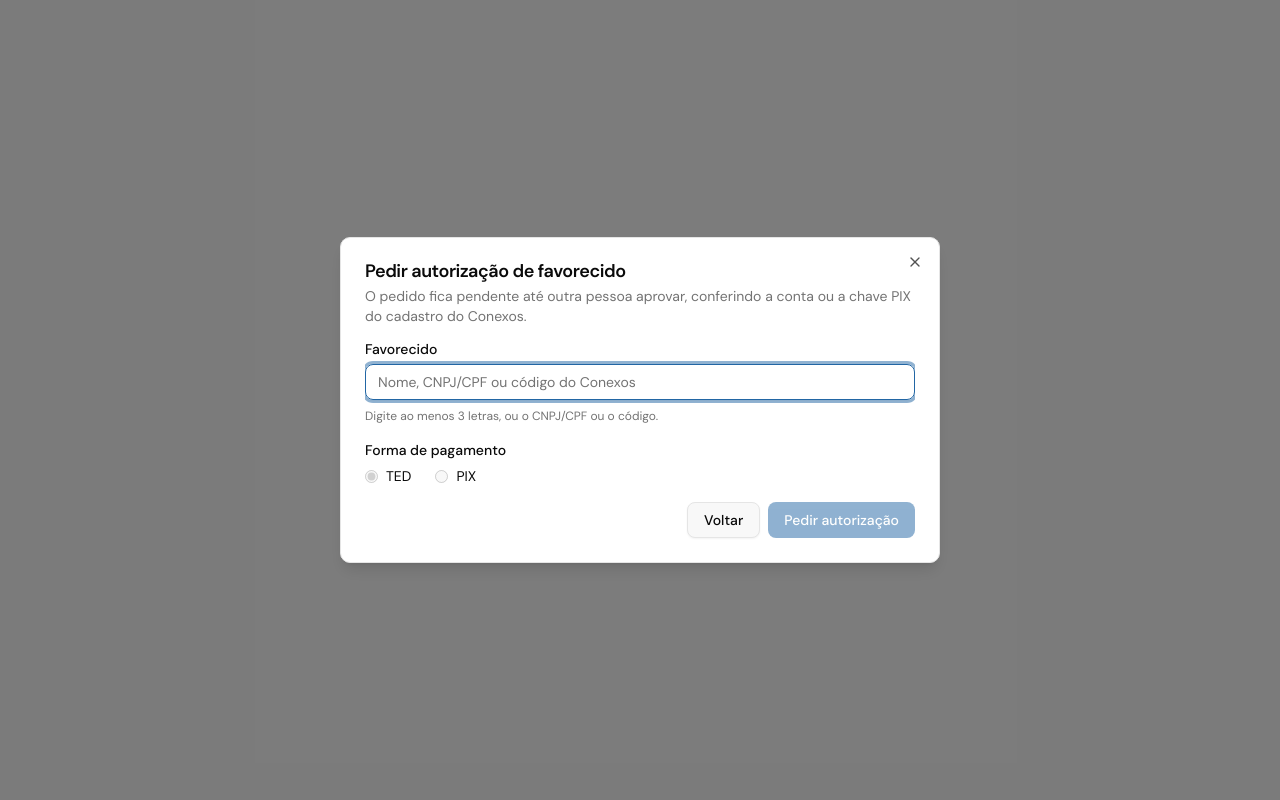
Test: SolicitarAutorizacaoDialog — busca no Conexos › cadastro sem destino para a modalidade: avisa e não deixa pedir
This screenshot has width=1280, height=800.
Type "beta" into the search field labelled "Favorecido" at (640, 382), box top-left (365, 364), bottom-right (915, 400)
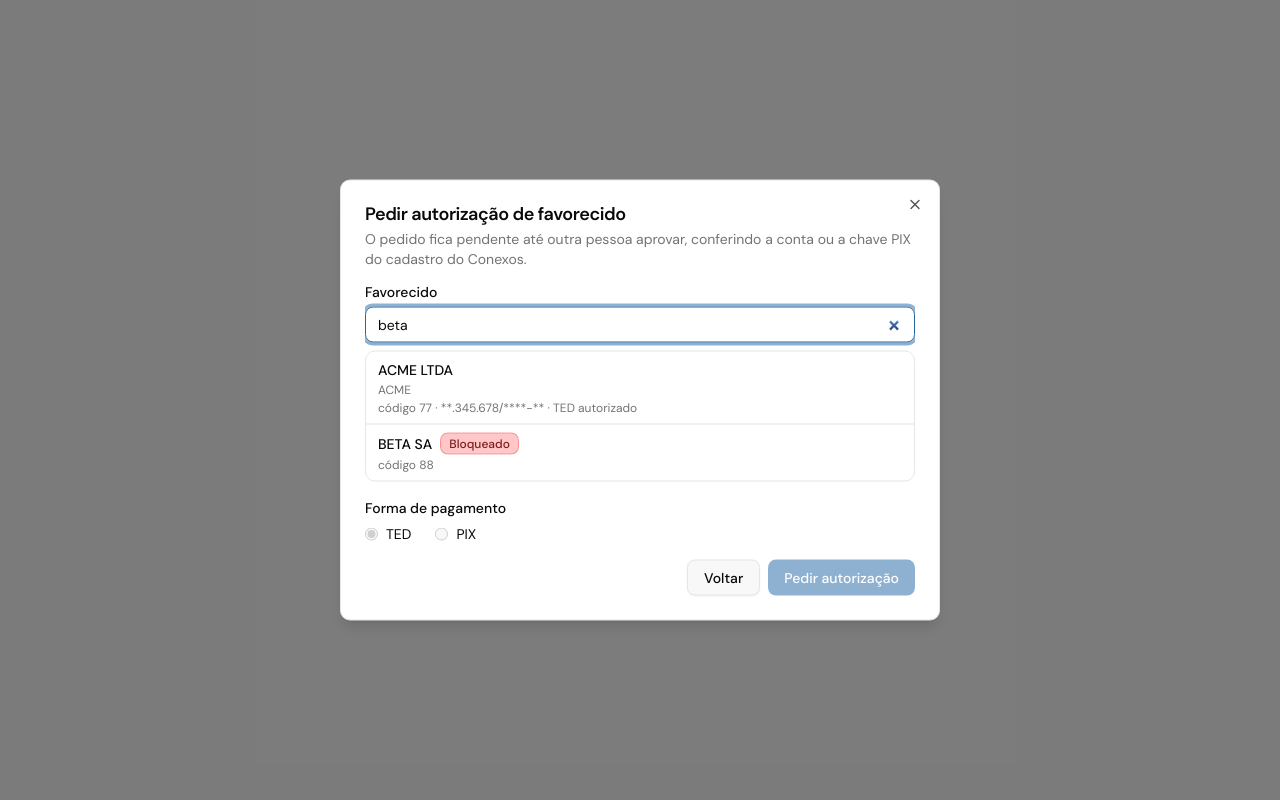
Click the button with aria-label "escolher BETA SA" at (405, 444), box top-left (366, 424), bottom-right (914, 480)
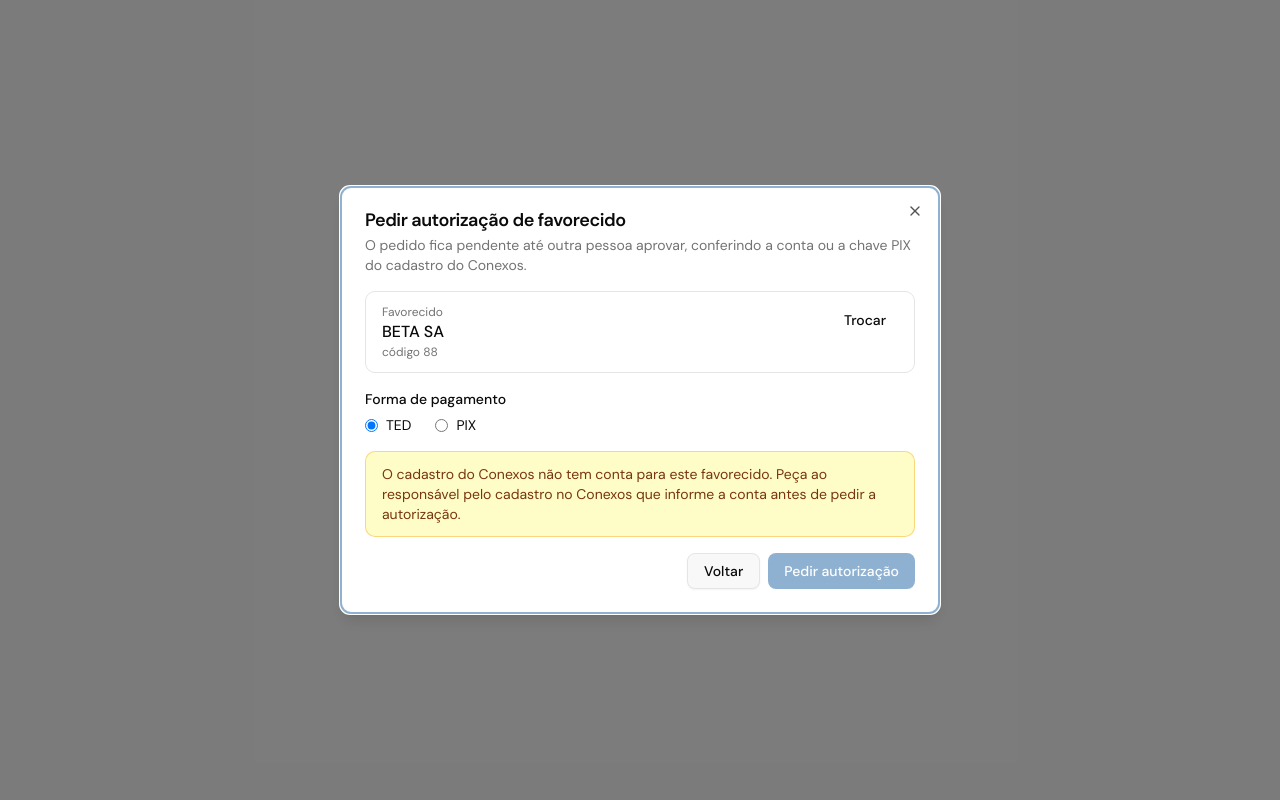
Expected: the button "Pedir autorização" is disabled, top-left (768, 553), bottom-right (915, 589)
Expected: the text "não tem conta para este favorecido" is shown, top-left (365, 451), bottom-right (915, 537)
